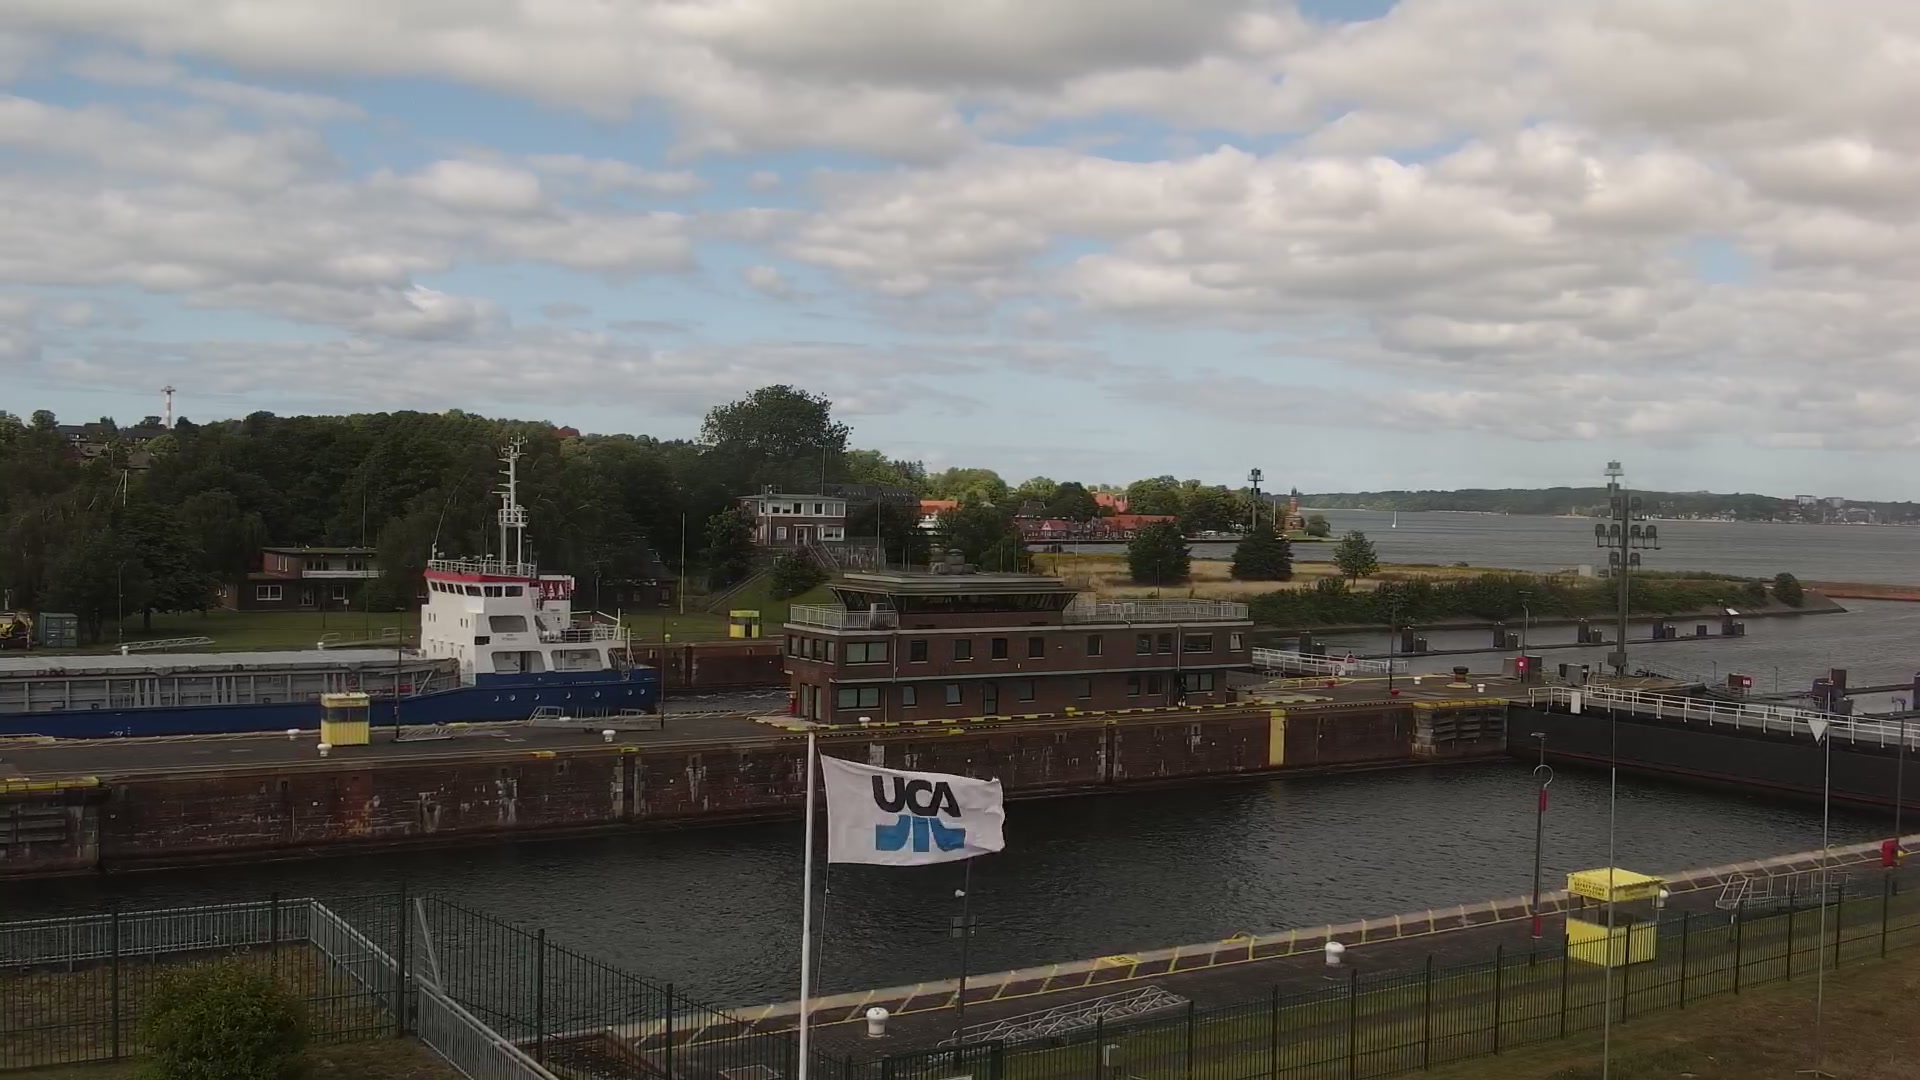human: (1176, 677, 1186, 704)
sea: (1, 427, 659, 737), (1391, 509, 1397, 529)
